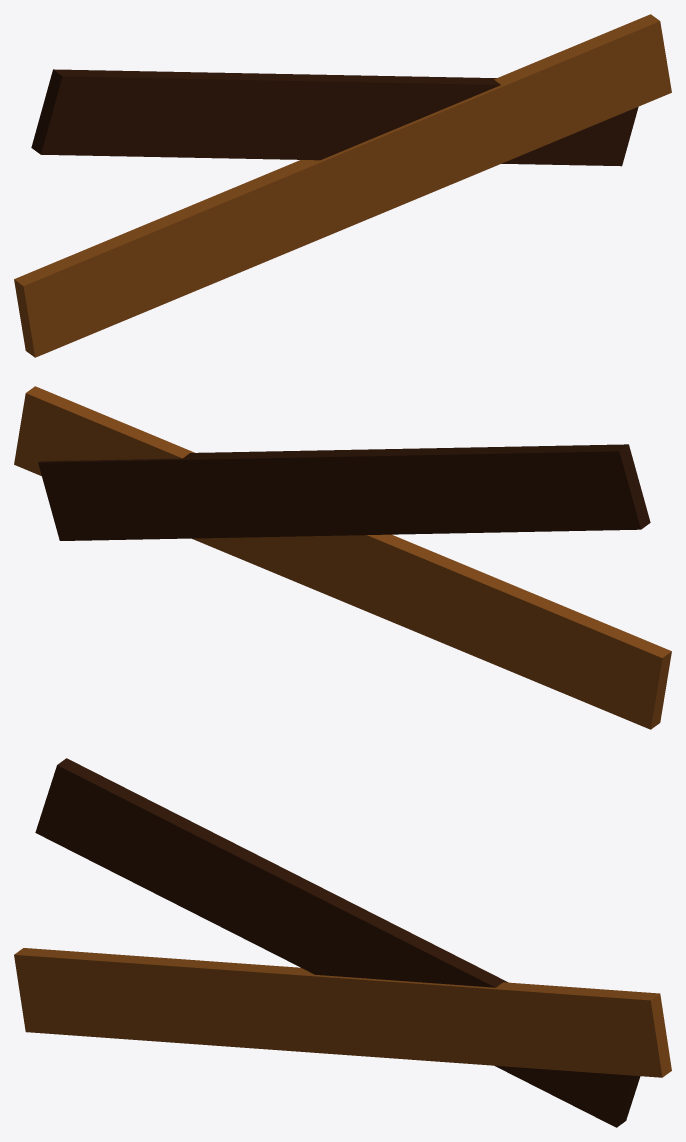
Rendered from board.fbx.
The picture shows the model from 3 angles, top to bottom: view 1: azimuth 30°, elevation 25°; view 2: azimuth 150°, elevation 25°; view 3: azimuth 330°, elevation 25°; orthographic projection.
Parts seen in each view (by area): view 1: Box010; view 2: Box010; view 3: Box010.
Part boxes in pixels (<box>): Box010: <box>14,14,671,357</box>; Box010: <box>14,386,671,729</box>; Box010: <box>14,758,671,1127</box>.
Size of the model in its own units: 1434 by 577 by 44.15.
